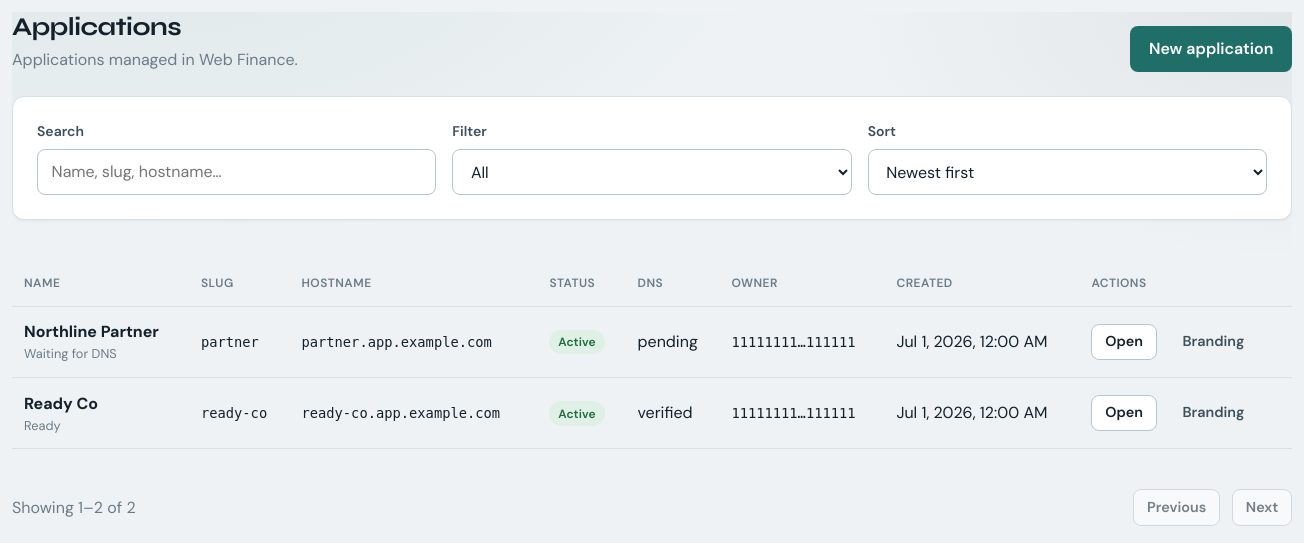
Test: Master deployment handoff › filters DNS pending applications without inventing ready rows
The image size is (1304, 543).
Expected: the text "Northline Partner" is shown, [24, 321, 159, 342]
Select "DNS pending" in the dropdown labelled "Filter" at x=652, y=172, box [452, 149, 852, 196]
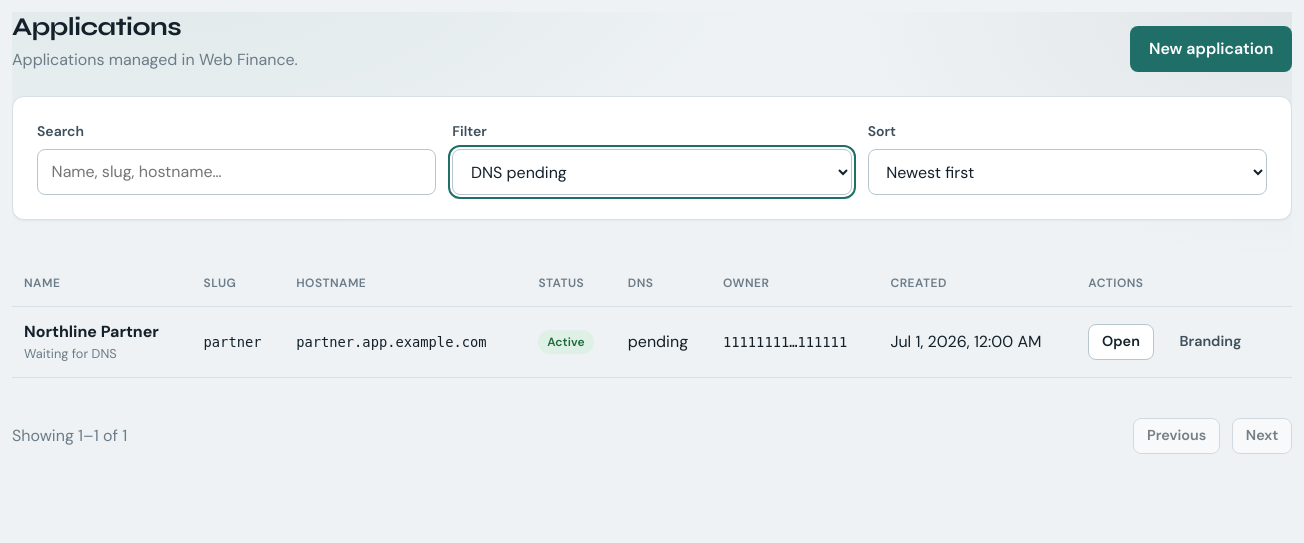
Expected: the text "Northline Partner" is shown, [24, 321, 159, 342]
Now the text "Ready Co" is gone
Select "Ready" in the dropdown labelled "Filter" at x=652, y=172, box [452, 149, 852, 196]
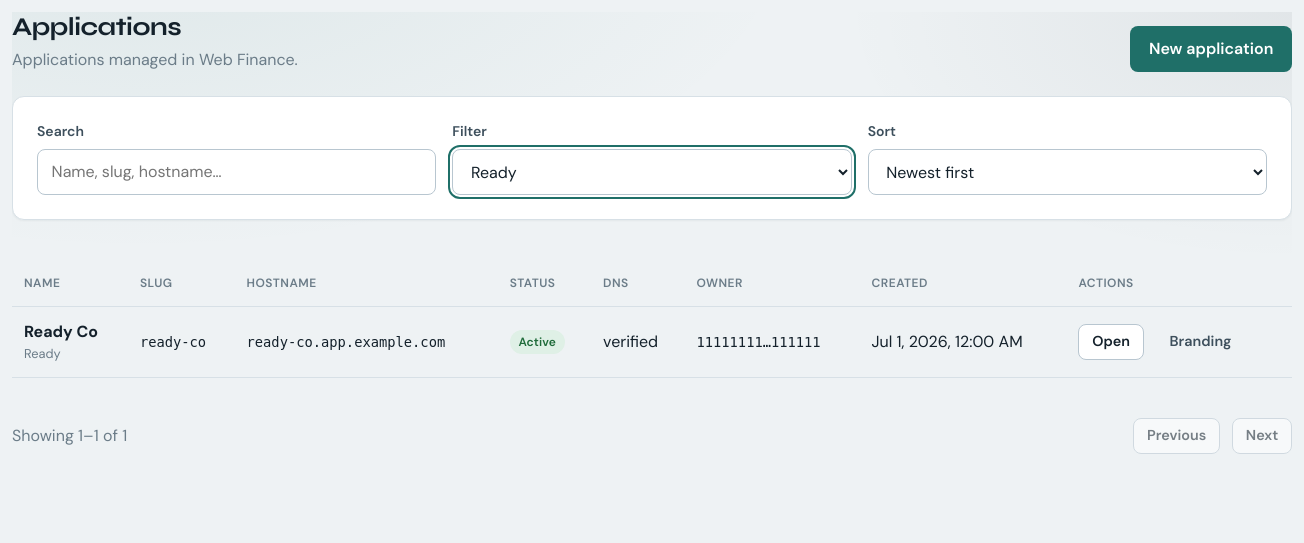
Now the text "Ready Co" is shown, box [24, 321, 98, 342]
Now the text "Northline Partner" is gone
